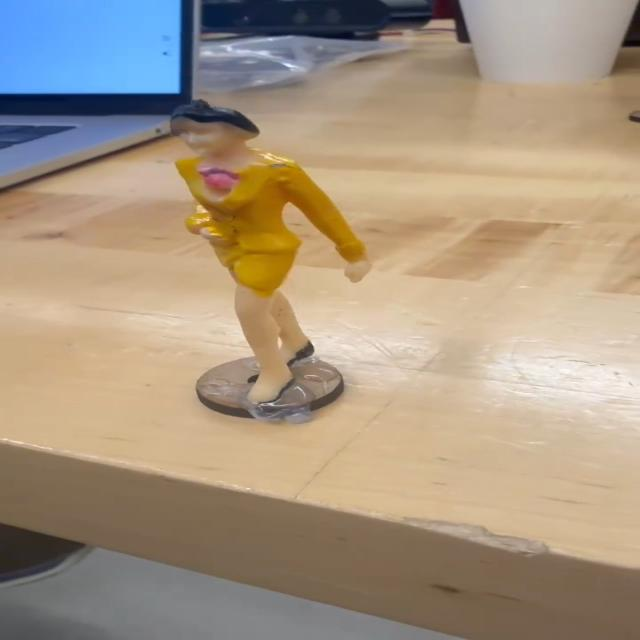Authorized: (158, 89, 383, 411)
